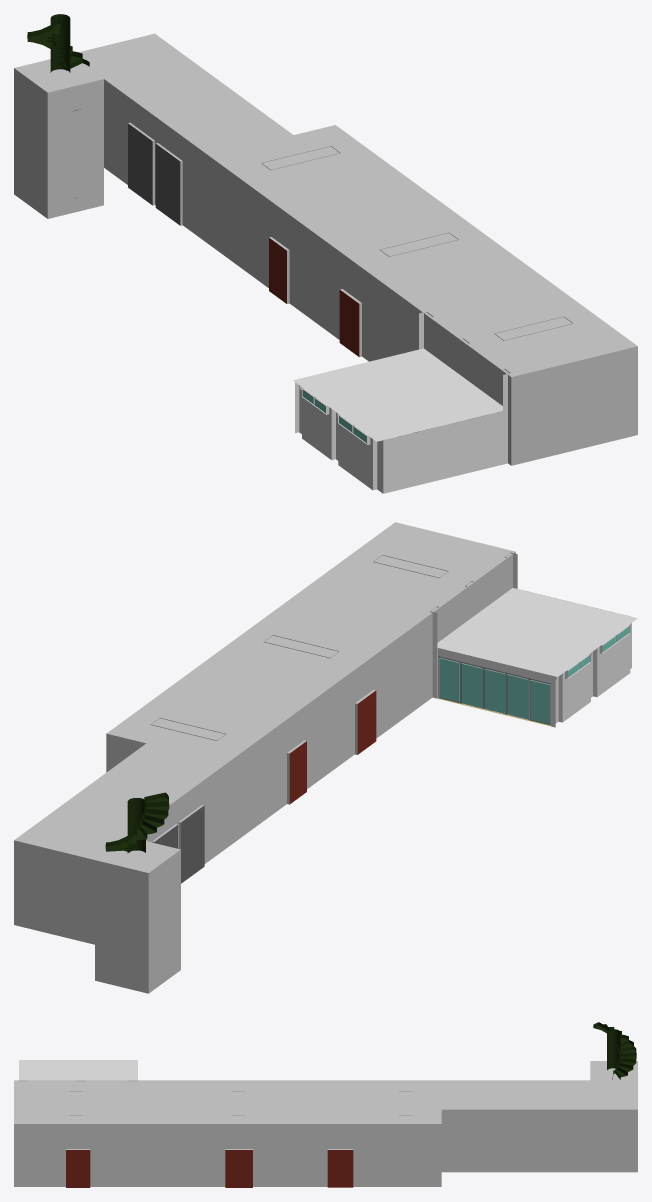
The model's file is corredor (1).fbx.
3 renders of one model, top to bottom at view 1: azimuth 30°, elevation 25°; view 2: azimuth 150°, elevation 25°; view 3: azimuth 270°, elevation 25°, orthographic. The views are drawn at different scales.
Visible parts, largest first — view 1: corredor; view 2: corredor; view 3: corredor.
Part boxes in pixels (x1,y1,x2,y2): corredor: (14,14,637,493); corredor: (14,522,637,993); corredor: (14,1022,637,1187).
Size of the model in its own units: 133 by 90.47 by 391.
